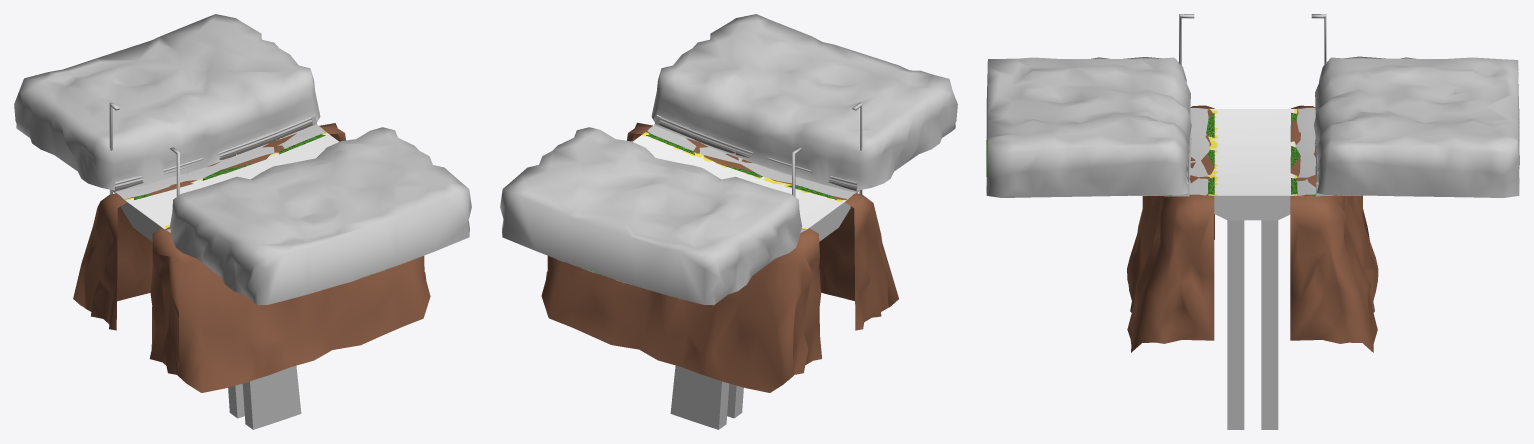
The model's file is RoadStraightUp_LOD1.fbx.
The picture shows the model from 3 angles, left to right: view 1: azimuth 30°, elevation 25°; view 2: azimuth 150°, elevation 25°; view 3: azimuth 270°, elevation 25°; orthographic projection. The views are drawn at different scales.
Visible parts, largest first — view 1: MountainRight, MountainLeft, CliffRight, CliffLeft, Road, Road Mask, PianoLeft, RailGuardLeft, ConcreteWallLeft; view 2: MountainLeft, MountainRight, CliffLeft, CliffRight, Road, Road Mask, PianoRight, RailGuardRight, TerrainRight; view 3: MountainRight, MountainLeft, CliffLeft, CliffRight, Road, Road Mask, PianoLeft, PianoRight.
Boxes of the visible parts, x1=… form: MountainRight: x1=170, y1=127, x2=471, y2=305; MountainLeft: x1=14, y1=14, x2=320, y2=192; CliffRight: x1=149, y1=227, x2=430, y2=392; CliffLeft: x1=73, y1=123, x2=345, y2=330; Road: x1=121, y1=201, x2=301, y2=429; Road Mask: x1=124, y1=132, x2=338, y2=229; PianoLeft: x1=116, y1=125, x2=325, y2=199; RailGuardLeft: x1=115, y1=116, x2=312, y2=187; ConcreteWallLeft: x1=115, y1=122, x2=312, y2=191; MountainLeft: x1=500, y1=127, x2=801, y2=305; MountainRight: x1=651, y1=14, x2=957, y2=193; CliffLeft: x1=541, y1=228, x2=821, y2=392; CliffRight: x1=627, y1=122, x2=898, y2=330; Road: x1=670, y1=201, x2=850, y2=429; Road Mask: x1=632, y1=132, x2=847, y2=229; PianoRight: x1=647, y1=125, x2=855, y2=199; RailGuardRight: x1=659, y1=116, x2=856, y2=187; TerrainRight: x1=646, y1=133, x2=836, y2=199; MountainRight: x1=986, y1=57, x2=1191, y2=197; MountainLeft: x1=1314, y1=56, x2=1519, y2=197; CliffLeft: x1=1290, y1=105, x2=1378, y2=352; CliffRight: x1=1127, y1=105, x2=1214, y2=352; Road: x1=1211, y1=195, x2=1303, y2=429; Road Mask: x1=1208, y1=109, x2=1297, y2=195; PianoLeft: x1=1296, y1=108, x2=1316, y2=195; PianoRight: x1=1189, y1=108, x2=1209, y2=195.
Size of what is drawn, in the model's own units: 642 by 747 by 1052.
